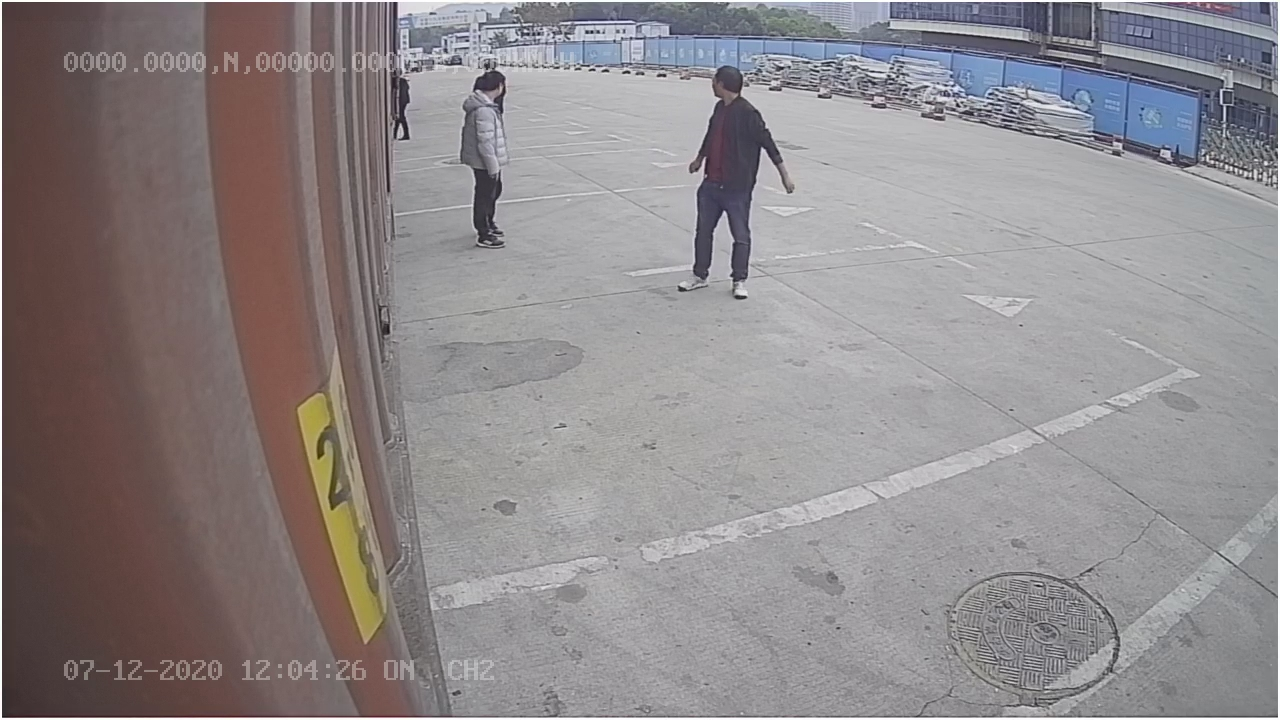person: (678, 60, 796, 301)
